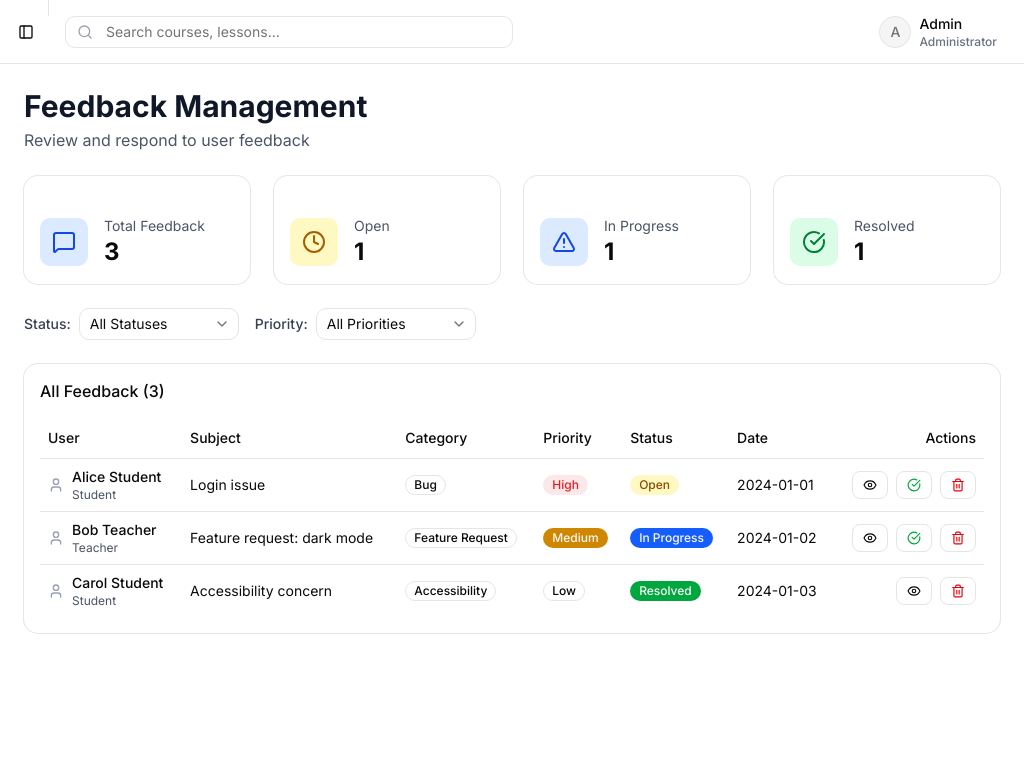
Test: Admin Feedback Page - Priority Filter (5.3) › filters to show only medium priority feedback (P1.4.3)
The image size is (1024, 768).
Expected: the text "Login issue" is shown, [190,476,265,492]
Click the dropdown named "priority".
click(396, 324)  # box [316,308,476,340]
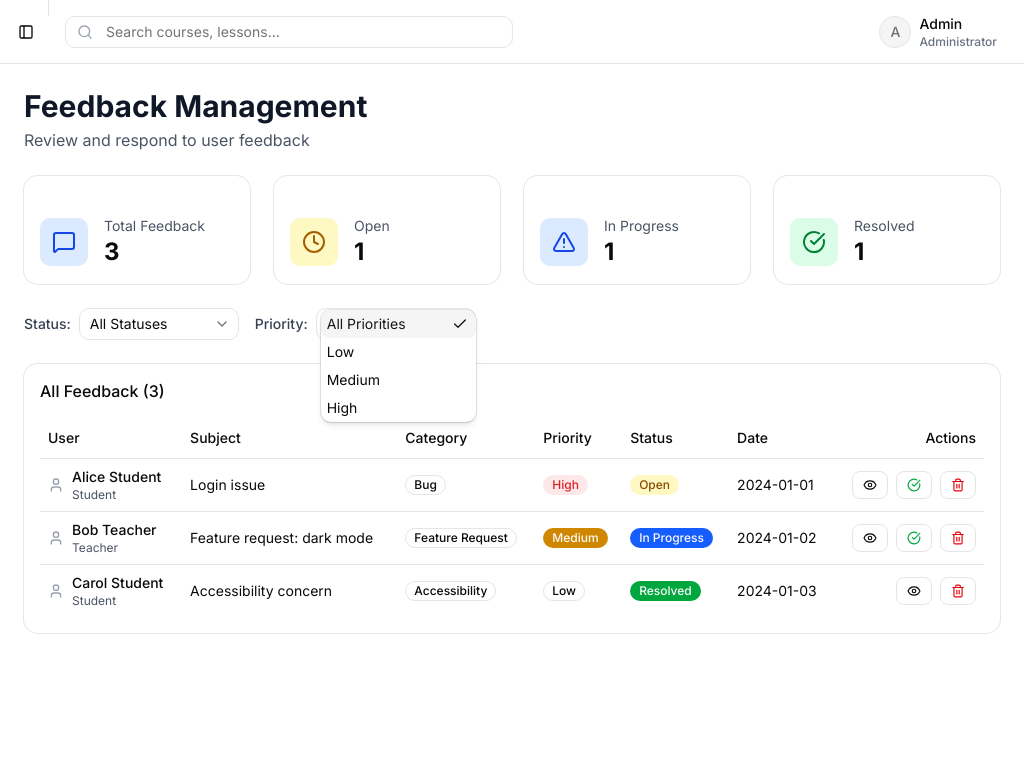
Click the option "Medium".
click(353, 380)  # box [327,371,380,388]
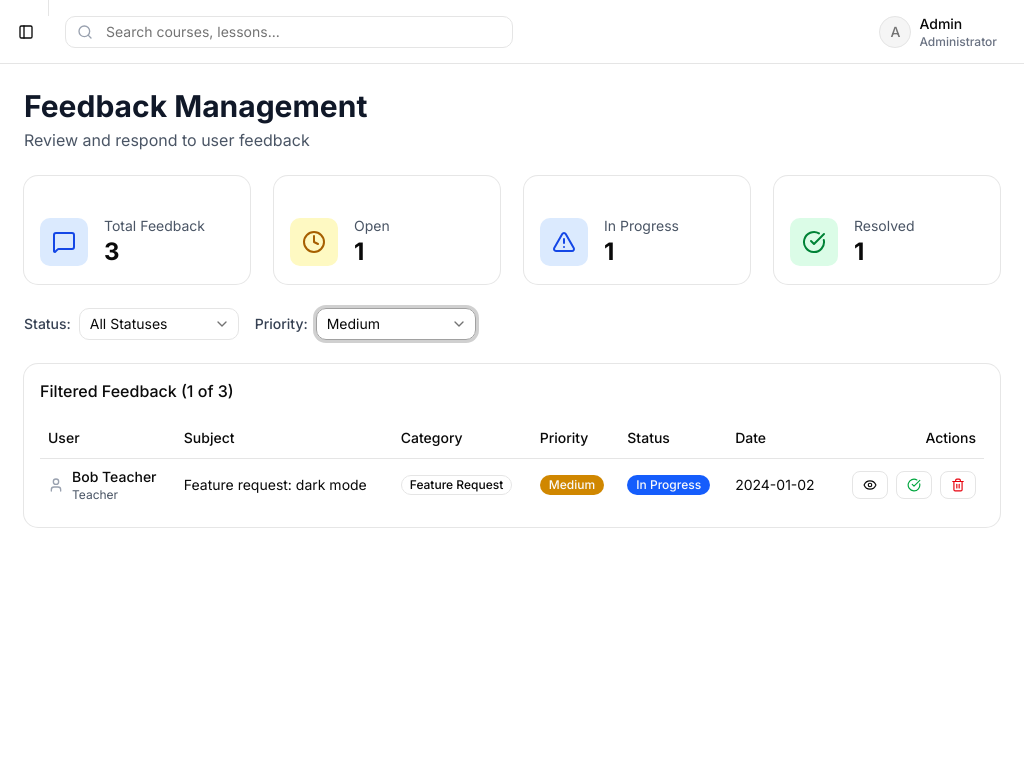
Expected: the text "Feature request: dark mode" is shown, [184,474,385,494]
Expected: the text "Login issue" is gone
Expected: the text "Accessibility concern" is gone
